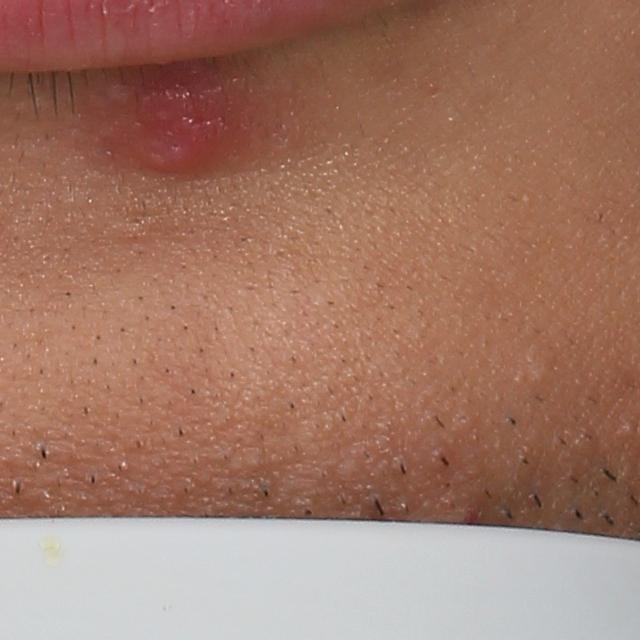comedo: (524, 362, 554, 391)
papule: (124, 69, 238, 184)
